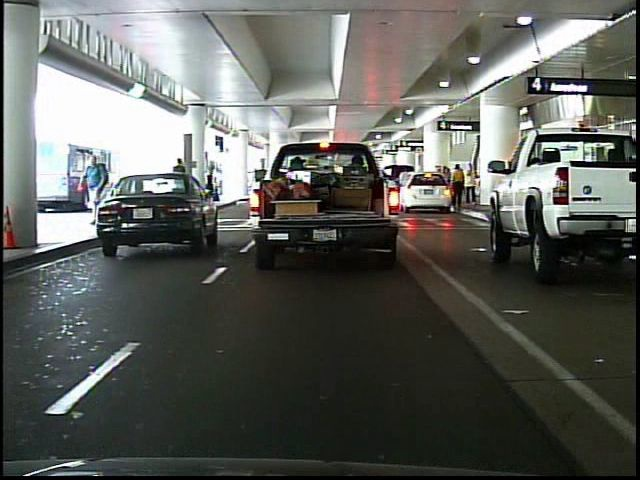person: (78, 151, 112, 228), (444, 160, 471, 220), (169, 153, 194, 211)
